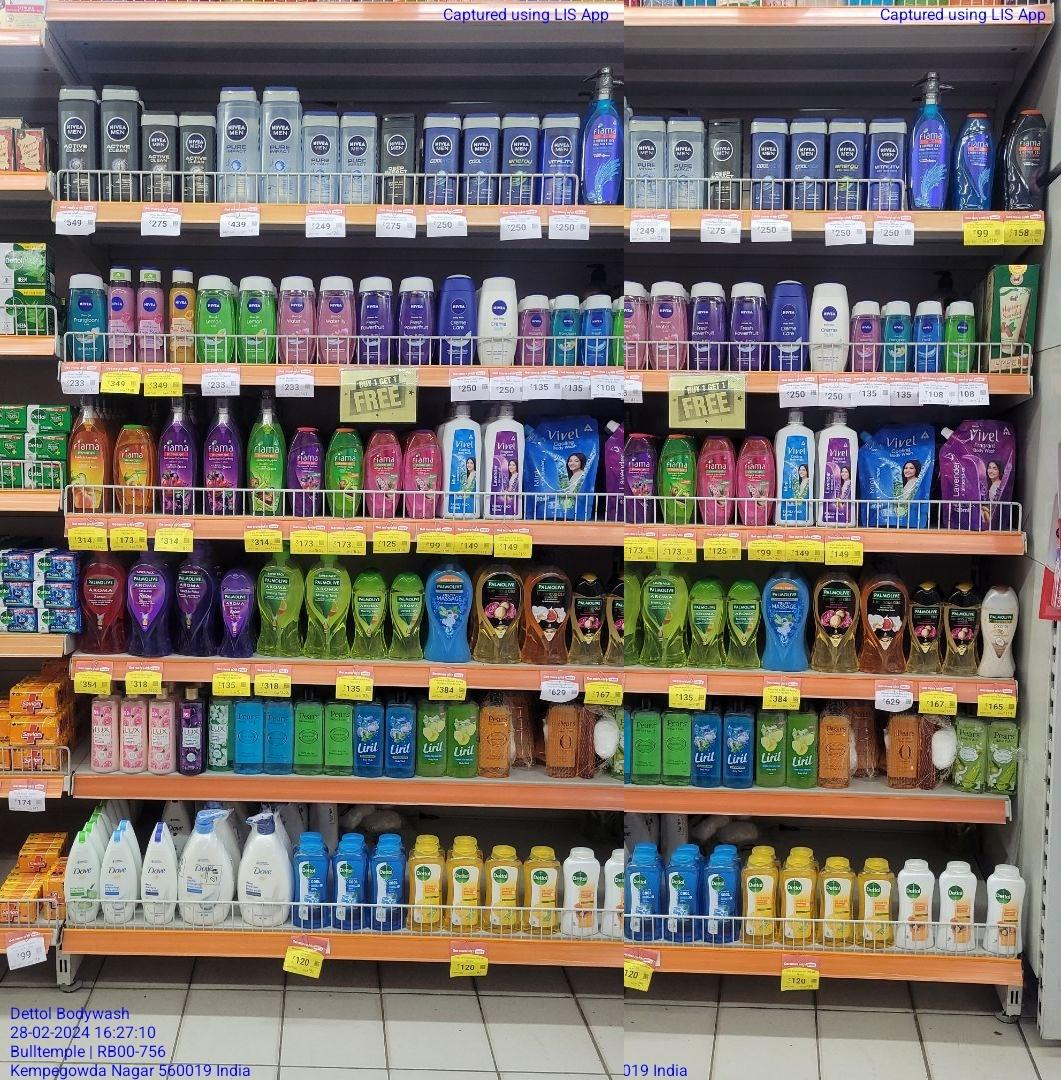Dettol_Bodywash_Cool: (626, 850, 662, 941), (293, 842, 329, 930), (704, 856, 739, 943), (333, 841, 366, 931), (372, 843, 405, 932), (667, 854, 700, 943)
Dettol_Bodywash_Refresh: (409, 841, 444, 932), (858, 859, 893, 950), (742, 858, 778, 946), (820, 861, 856, 948), (448, 842, 482, 932), (525, 851, 560, 937), (782, 858, 815, 947), (485, 851, 520, 934)
Dettol_Nourish_Body_Wash_250ML: (895, 859, 935, 947), (986, 867, 1023, 955), (562, 851, 599, 937), (940, 866, 976, 952), (603, 849, 623, 938)
Dove_Deep_Moisture_Body_Wash_250ML: (141, 831, 177, 925)
Dove_Gentle_Exfoliating_Body_Wash_250ML: (100, 832, 135, 924)
Dove_Refreshing_Body_Wash_250ML: (65, 831, 98, 924)
Fiama_Shower_Gel_Lemongrass_and_Jojoba_250ML: (325, 427, 362, 519), (658, 432, 693, 525)
Fiama_Shower_Gel_Patchouli_and_Macadamia_250ML: (738, 437, 776, 529), (404, 428, 442, 520), (698, 435, 734, 525), (366, 427, 401, 517)
Fiama_Shower_Gel_Peach_and_Avocado_250ML: (113, 423, 154, 513)
Liril_Cooling_Mint_Body_Wash_250ML: (722, 697, 753, 789), (386, 689, 415, 777), (693, 700, 721, 788), (355, 695, 382, 777)
Liril_Lime_and_Tea_Tree_Oil_Body_Wash_250ML: (788, 702, 817, 789), (757, 704, 786, 788), (449, 696, 478, 778), (418, 695, 445, 777)
Lux_Black_Orchid_Scent_and_Juniper_Oil_Body_Wash_245ML: (177, 688, 205, 777)
Lux_Body_Wash_Skin_Detox_Freesia_Scent_and_Alove_Vera_245ML: (208, 697, 232, 774)
Nivea_Creme_Care_Body_Wash_250ML: (770, 279, 806, 371), (440, 275, 475, 364)
Nivea_Creme_Soft_Body_Wash_250ML: (480, 272, 517, 367), (809, 283, 848, 372)
Nivea_Shower_Gel_Frangipani_and_Oil_250ML: (67, 272, 105, 363)
Nivea_Shower_Gel_Fresh_Powerfruit_250ML: (729, 280, 765, 374), (397, 275, 434, 366), (357, 274, 393, 366), (689, 280, 725, 371)
Nivea_Shower_Gel_Lemon_and_Oil_250ML: (198, 272, 234, 364), (237, 273, 273, 364)
Nivea_Shower_Gel_Waterlily_and_Oil_250ML: (278, 273, 316, 365), (649, 279, 685, 373), (319, 271, 353, 363)
Palmolive_Aroma_Morning_Tonic_Shower_Gel_250ML: (687, 578, 725, 670), (351, 570, 386, 660), (727, 581, 762, 670), (390, 574, 425, 661)
Palmolive_Aroma_Relax_250ML: (220, 570, 256, 659)
Palmolive_Coconut_Joy_Exfoliating_Body_Wash_250ML: (980, 585, 1016, 680)
Palmolive_Luminous_Oils_Invigorating_Macadamia_Oil_With_Peony_250ML: (570, 574, 607, 666), (946, 584, 980, 678), (909, 583, 943, 677)
Pears_Naturale_Aloe_Vera_Body_Wash_250ML: (955, 709, 986, 793), (989, 716, 1019, 796)
Pears_Pure_Glycerin_and_Lemon_Flower_Extracts_Body_Wash_250ML: (662, 700, 691, 787), (633, 697, 661, 786), (295, 687, 323, 775), (325, 690, 352, 777)
Pears_Pure_Glycerin_and_Mint_Extracts_Body_Wash_250ML: (264, 695, 293, 776), (235, 693, 261, 776)
